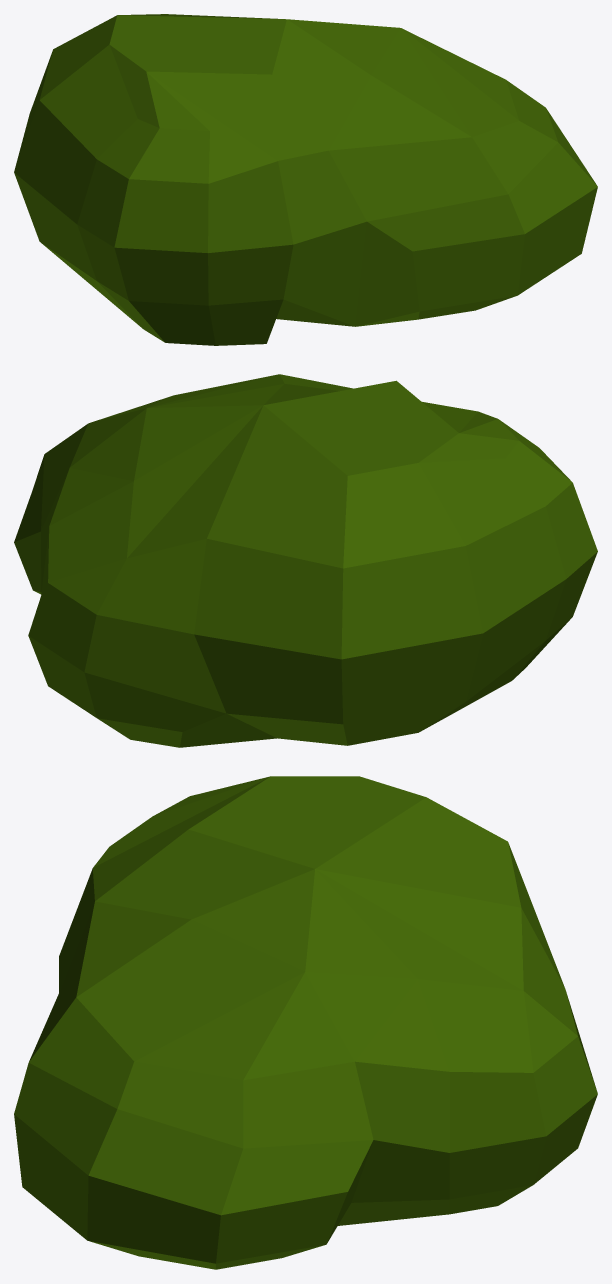
File: Bush_04.fbx
3 renders of one model, top to bottom at view 1: azimuth 30°, elevation 25°; view 2: azimuth 150°, elevation 25°; view 3: azimuth 270°, elevation 25°, orthographic. The views are drawn at different scales.
Parts seen in each view (by area): view 1: Bush_04; view 2: Bush_04; view 3: Bush_04.
Boxes of the visible parts, box(x1,y1,x2,y2) form: Bush_04: box(14, 14, 597, 345); Bush_04: box(14, 374, 597, 747); Bush_04: box(14, 776, 597, 1269).
Size of the model in its own units: 9.33 by 4.54 by 8.02.
Materials: 1 (1 with a texture image).
